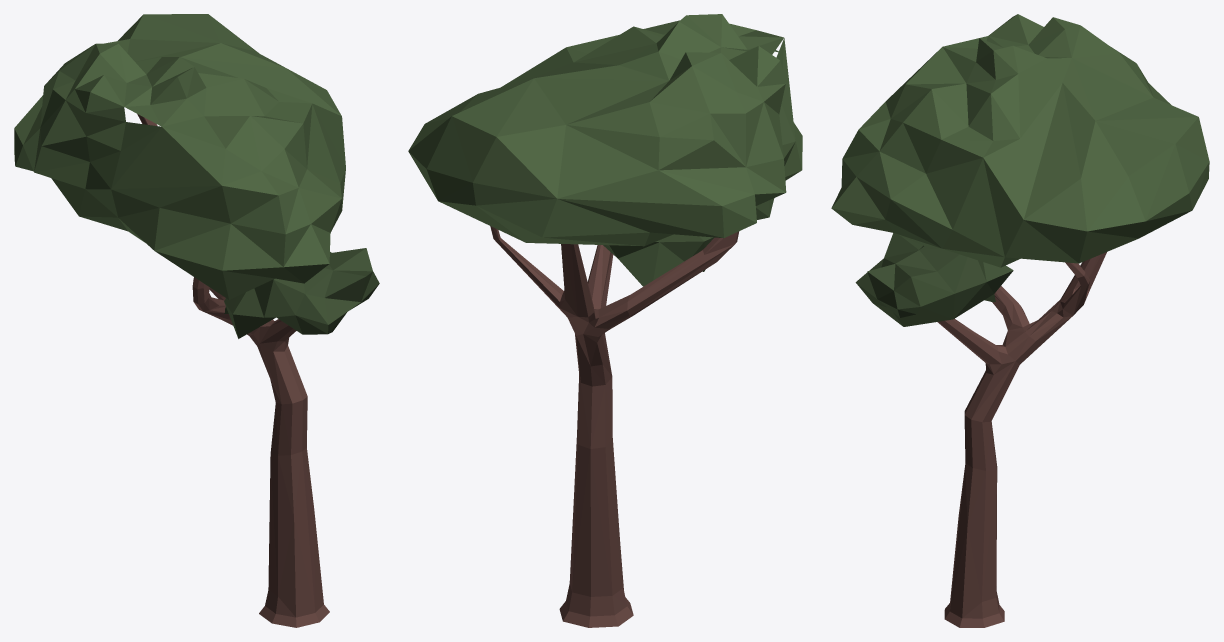
Rendered from CommonTree_4_far.glb.
The picture shows the model from 3 angles, left to right: view 1: azimuth 30°, elevation 25°; view 2: azimuth 150°, elevation 25°; view 3: azimuth 270°, elevation 25°; orthographic projection. The views are drawn at different scales.
Visible parts, largest first — view 1: CommonTree_4; view 2: CommonTree_4; view 3: CommonTree_4.
Boxes of the visible parts, box(x1,y1,x2,y2) form: CommonTree_4: box(14, 14, 379, 627); CommonTree_4: box(408, 14, 802, 627); CommonTree_4: box(831, 14, 1209, 627).
Size of the model in its own units: 1.58 by 2.78 by 1.8.
